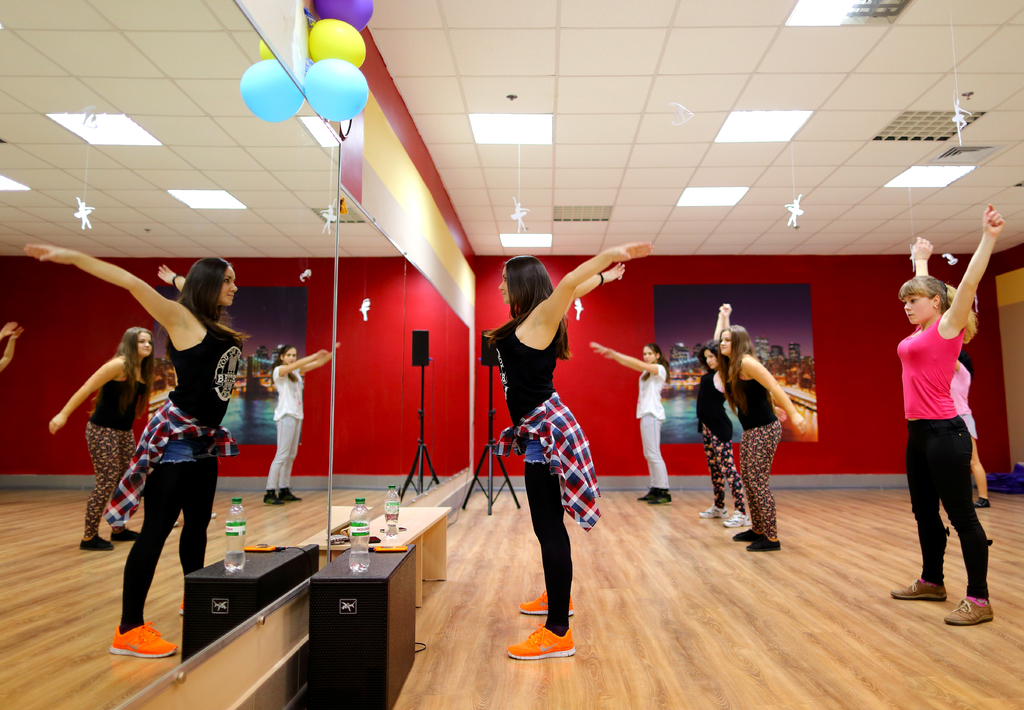Person: (482, 204, 1005, 659)
